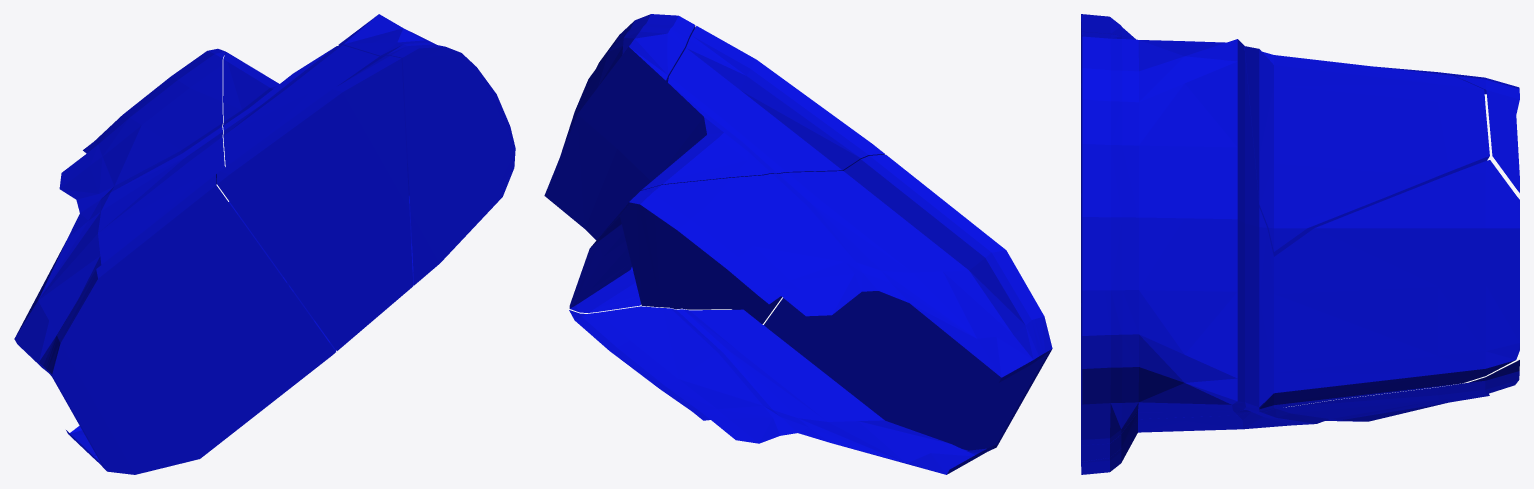
The model's file is 3_head__top.obj.
The picture shows the model from 3 angles, left to right: view 1: azimuth 30°, elevation 25°; view 2: azimuth 150°, elevation 25°; view 3: azimuth 270°, elevation 25°; orthographic projection. The views are drawn at different scales.
Parts seen in each view (by area): view 1: 3_head__top; view 2: 3_head__top; view 3: 3_head__top.
Part boxes in pixels (<box>): 3_head__top: <box>14,14,515,474</box>; 3_head__top: <box>544,14,1052,474</box>; 3_head__top: <box>1081,14,1519,474</box>.
Bounding box in the file's own units: 0.0799 × 0.059 × 0.0374.
